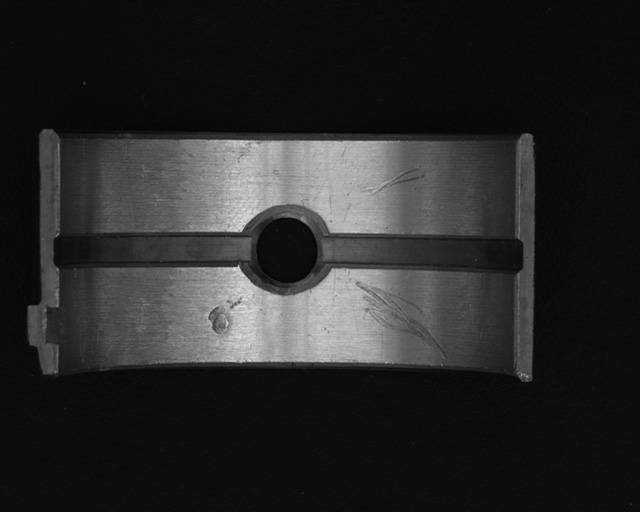bruise: (208, 297, 242, 334)
gap: (320, 234, 522, 273), (55, 232, 253, 267)
hole: (246, 208, 324, 290)
nick: (354, 281, 446, 360), (364, 167, 425, 198)
